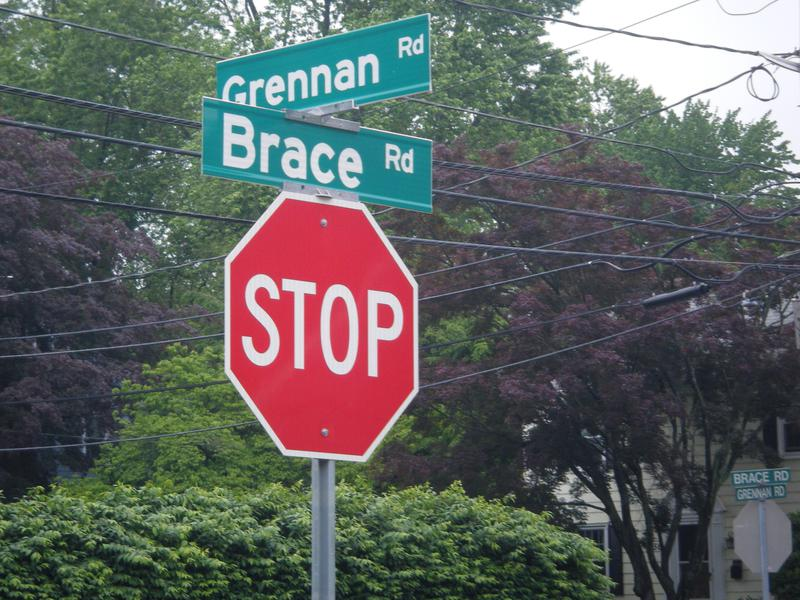stop: (222, 185, 420, 470)
